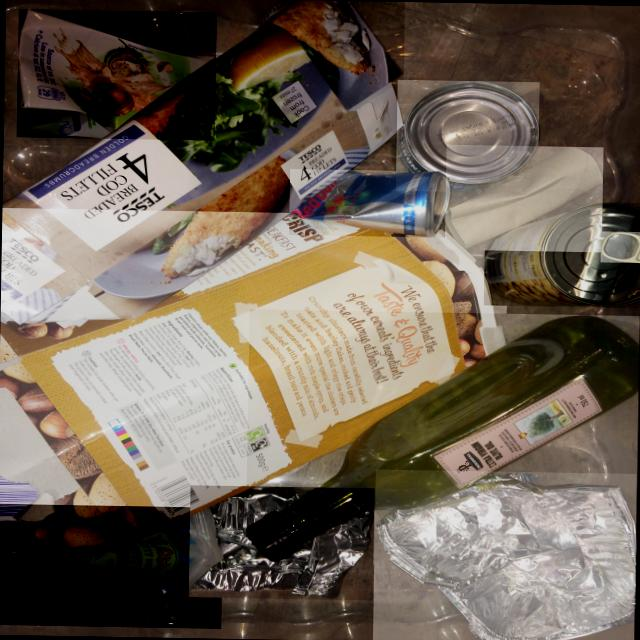Aluminium foil: (375, 472, 636, 640), (189, 487, 374, 599)
Bottle cap: (246, 521, 290, 562)
Drink can: (290, 170, 449, 237)
Food Carton: (18, 9, 216, 138)
Other Carton: (0, 214, 506, 554), (0, 0, 402, 325), (445, 147, 603, 250)
Other can: (484, 202, 640, 306), (397, 81, 538, 191)
Other plastic wrapper: (246, 315, 639, 562)
Plastic film: (0, 508, 222, 627)
Pop tab: (601, 231, 640, 263)
